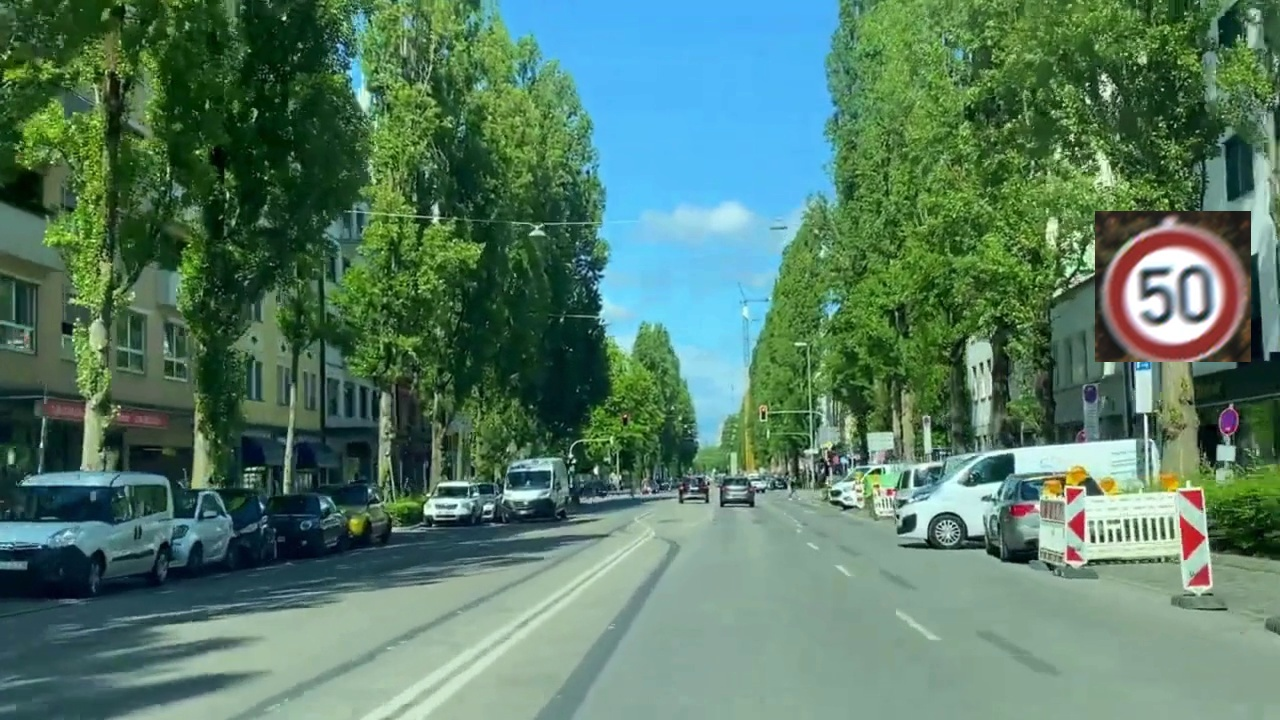Speed 50: (1095, 211, 1251, 362)
